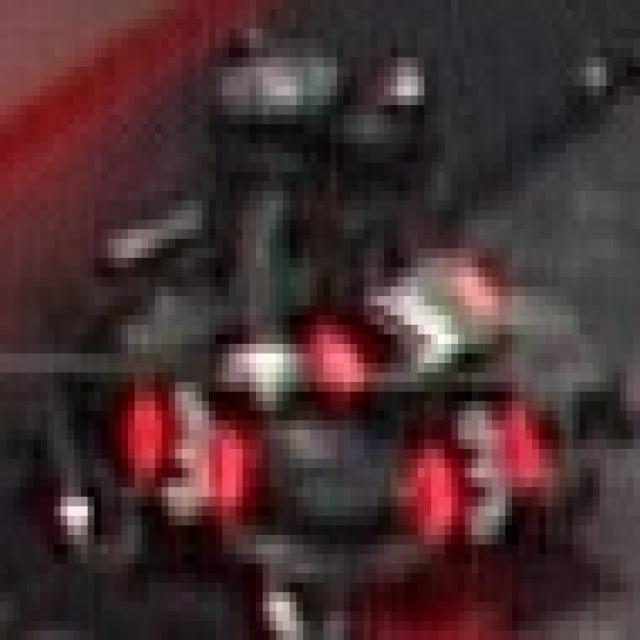R3: (384, 382, 552, 545), (101, 363, 256, 516)
